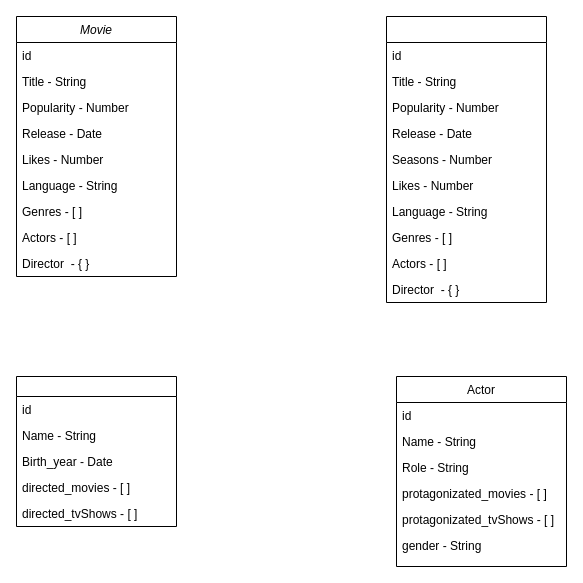
This 583x583 diagram has some shape labels left out. Here are the shapes that lost their labels. From the top down, the box of each, then its label:
(386, 16, 546, 302): tvShow
(16, 376, 176, 526): Director
